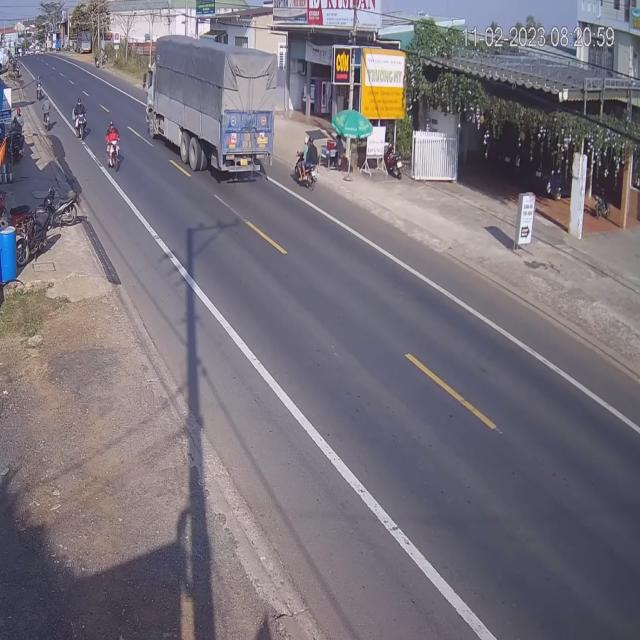motorbike: (290, 133, 318, 188), (105, 125, 122, 174), (72, 95, 88, 140)
truck: (144, 35, 272, 186)
